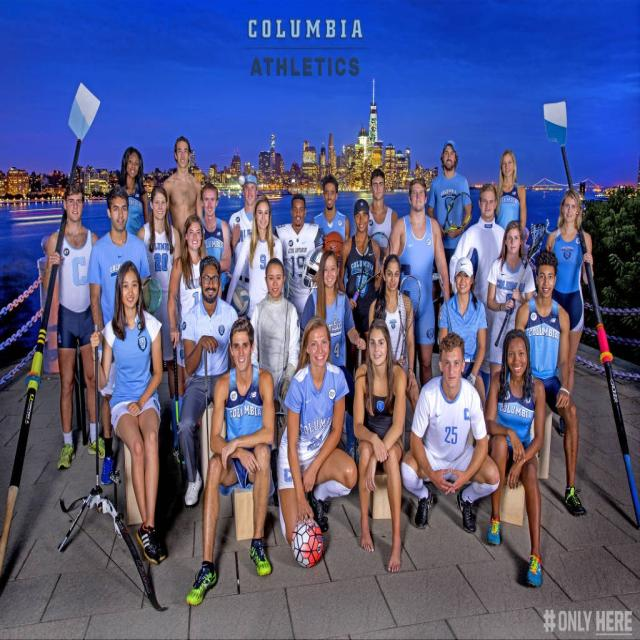body: (185, 314, 276, 608), (87, 257, 171, 570), (400, 328, 504, 538), (37, 180, 112, 469), (272, 313, 362, 552), (86, 186, 152, 486), (514, 249, 587, 517), (484, 323, 548, 590), (179, 254, 240, 508), (349, 316, 408, 577), (384, 176, 451, 390), (542, 184, 596, 440), (249, 256, 301, 508), (136, 184, 182, 435), (300, 250, 368, 400), (368, 252, 420, 415), (448, 181, 518, 297), (338, 198, 383, 377), (486, 218, 534, 384), (438, 256, 488, 415), (426, 138, 474, 303), (166, 212, 223, 349), (272, 192, 324, 342), (224, 193, 284, 321), (311, 173, 351, 294), (160, 135, 203, 239), (227, 174, 262, 294), (198, 181, 232, 301), (366, 166, 398, 272), (493, 148, 528, 234), (119, 144, 150, 236)
